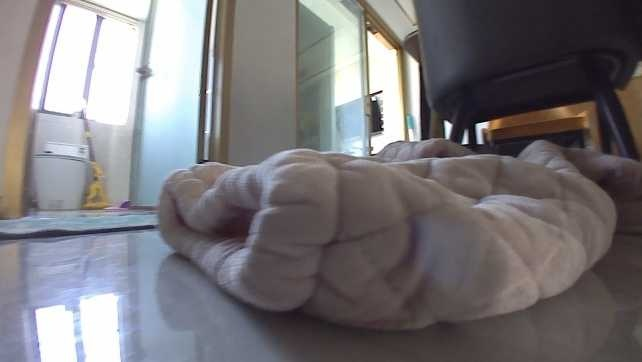blanket: (0, 211, 163, 241)
door_anno: (125, 0, 235, 210)
toilet: (28, 140, 89, 211)
